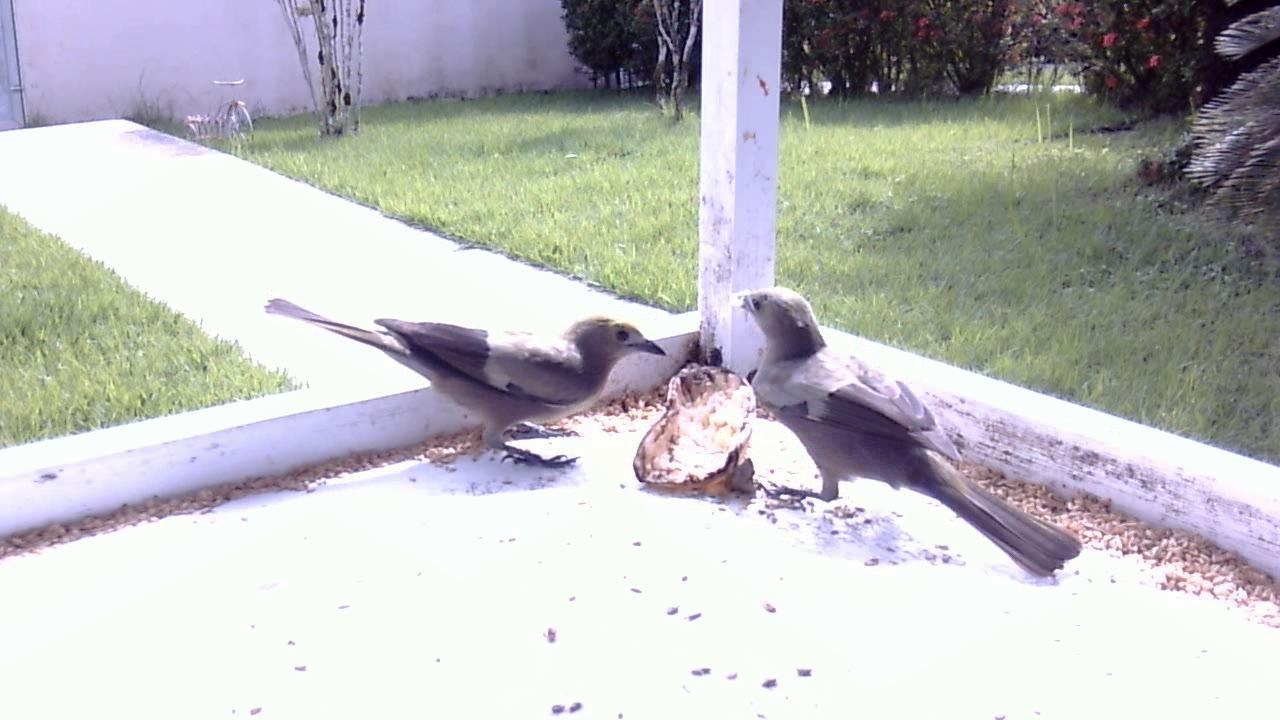sanhaco_do_coqueiro: (723, 283, 1079, 584), (241, 275, 682, 488)
